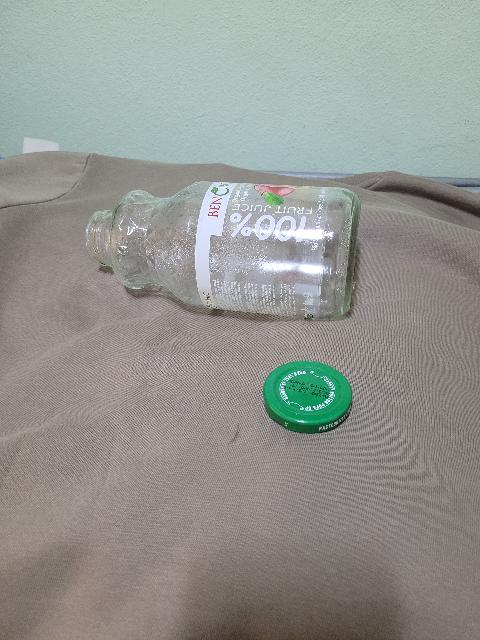Cam: (68, 177, 367, 329)
Metal: (260, 360, 357, 434)
